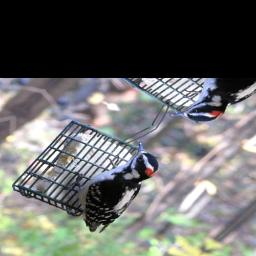Woodpecker: (38, 131, 182, 236)
